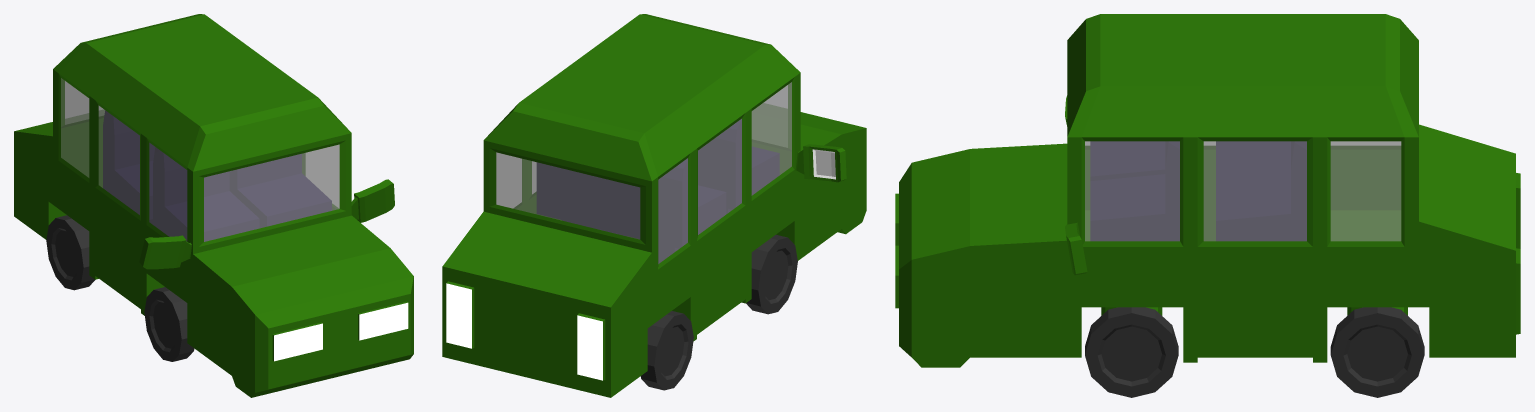
The model's file is cars6.glb.
3 renders of one model, left to right at view 1: azimuth 30°, elevation 25°; view 2: azimuth 150°, elevation 25°; view 3: azimuth 270°, elevation 25°, orthographic. The views are drawn at different scales.
Visible parts, largest first — view 1: Car6, Car6Tire1, Car6Tire2; view 2: Car6, Car6Tire2, Car6Tire1; view 3: Car6, Car6Tire1, Car6Tire2.
Part boxes in pixels (<box>): Car6: <box>14,14,413,397</box>; Car6Tire1: <box>144,287,194,361</box>; Car6Tire2: <box>46,215,95,290</box>; Car6: <box>442,14,866,397</box>; Car6Tire2: <box>640,311,693,390</box>; Car6Tire1: <box>746,234,797,314</box>; Car6: <box>895,14,1520,367</box>; Car6Tire1: <box>1085,307,1178,397</box>; Car6Tire2: <box>1330,307,1424,397</box>.
Bounding box in the file's own units: 1.51 × 1.35 × 2.58.
